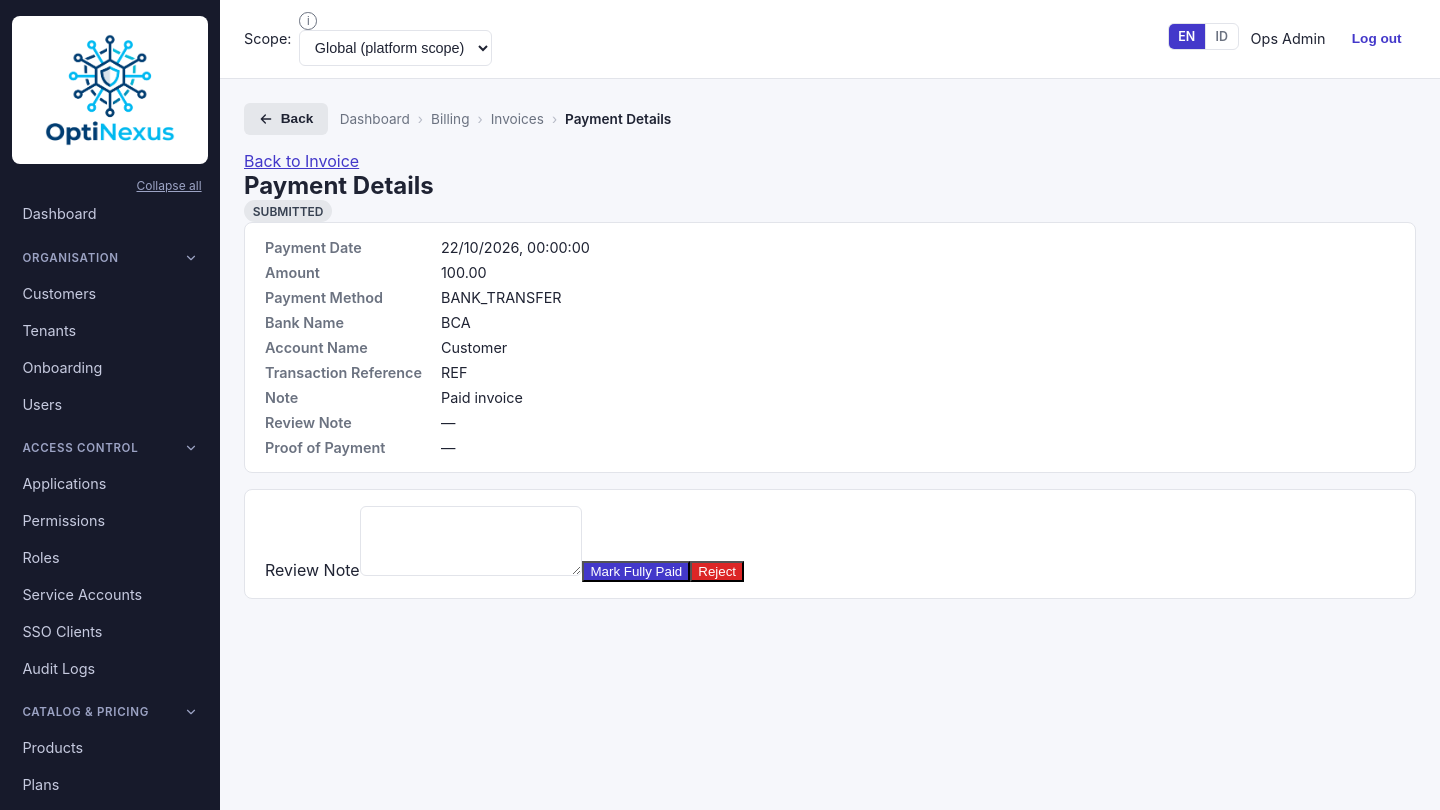
Test: reviews the selected submitted payment using verify
The width and height of the screenshot is (1440, 810).
Expected: the text "BCA" is shown, [441,314,471,331]
Click the button "Mark Fully Paid" at (636, 571), box [582,561,690,582]
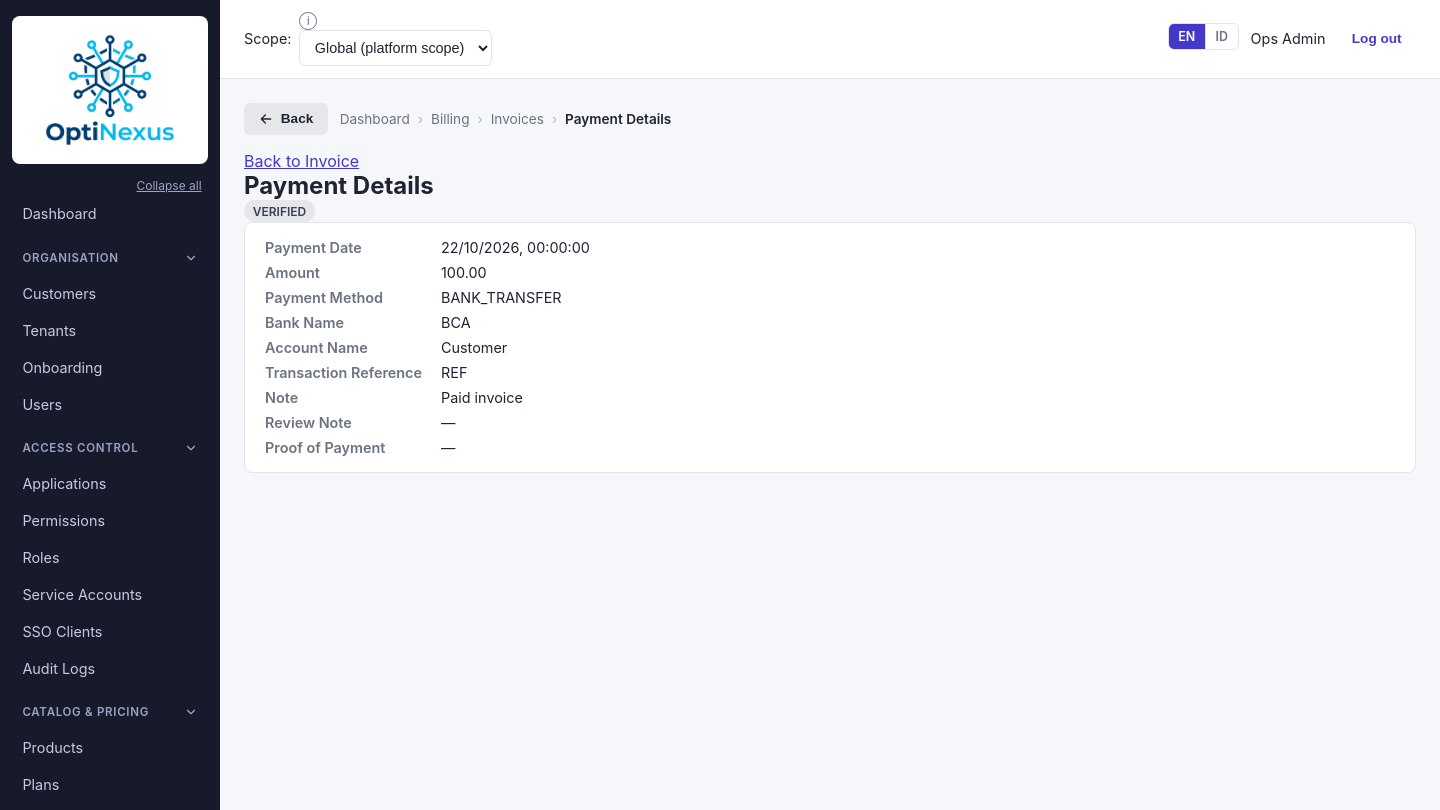
Expected: the button "Mark Fully Paid" is gone
